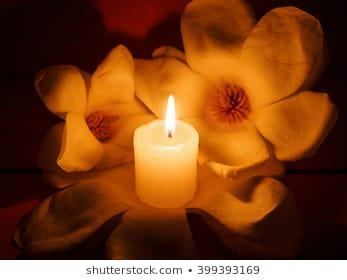fire: (162, 91, 178, 137)
